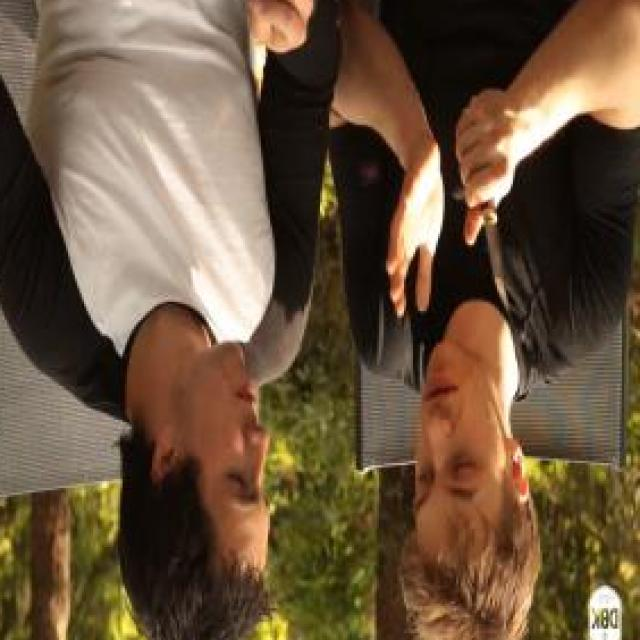knife: (451, 126, 526, 334)
